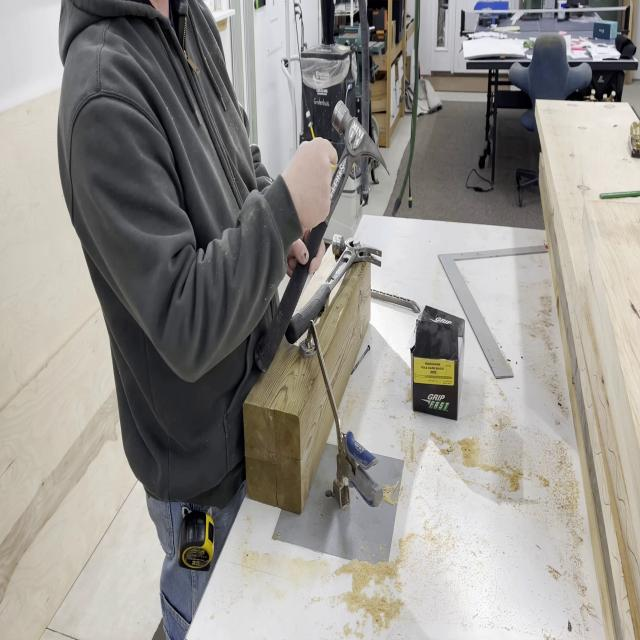hammer: (254, 101, 390, 374), (285, 234, 382, 345)
